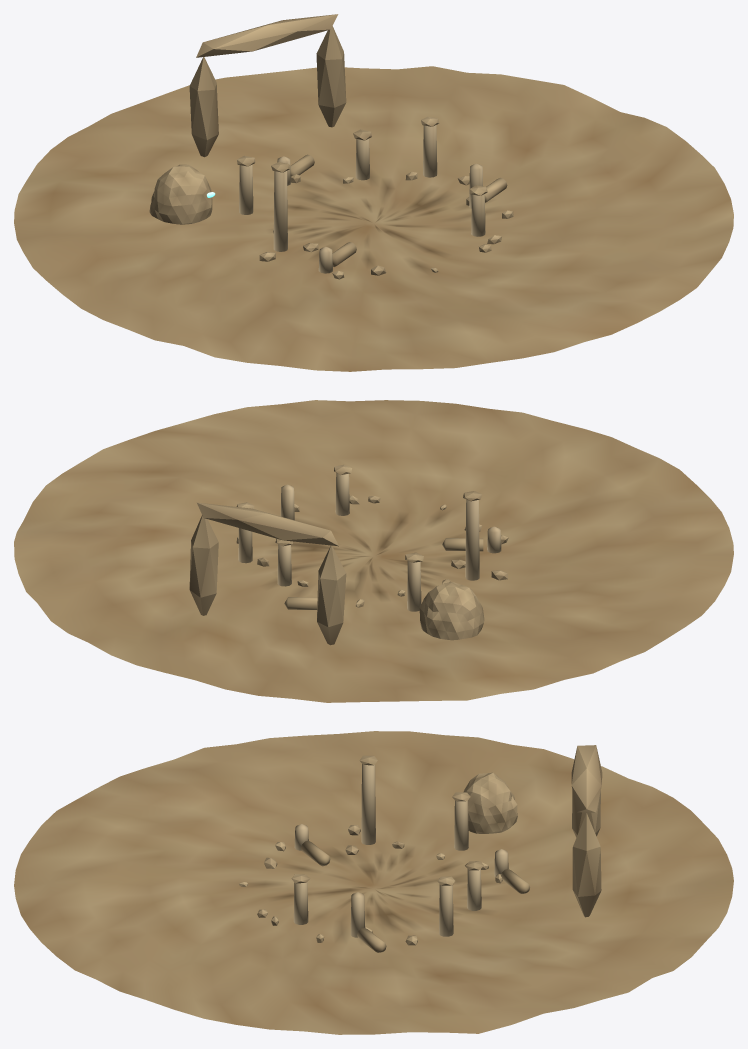
The model's file is arena-ruins.c4eafea7ed.glb.
3 views of the same model, one above another, from view 1: azimuth 30°, elevation 25°; view 2: azimuth 150°, elevation 25°; view 3: azimuth 270°, elevation 25° (orthographic).
Visible parts, largest first — view 1: Arena; view 2: Arena; view 3: Arena.
Part boxes in pixels (x1=…): Arena: x1=14, y1=14, x2=733, y2=371; Arena: x1=14, y1=400, x2=733, y2=702; Arena: x1=14, y1=731, x2=733, y2=1034.
Bounding box in the file's own units: 44 × 9.75 × 44.
